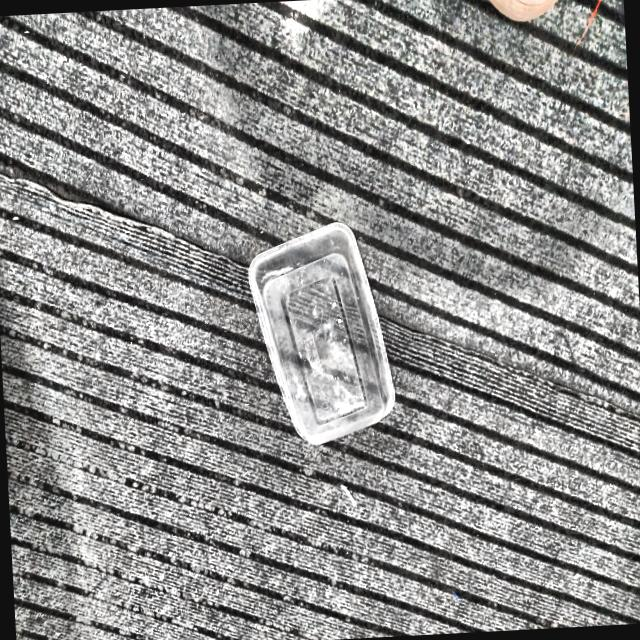plastic container: (249, 222, 395, 445)
